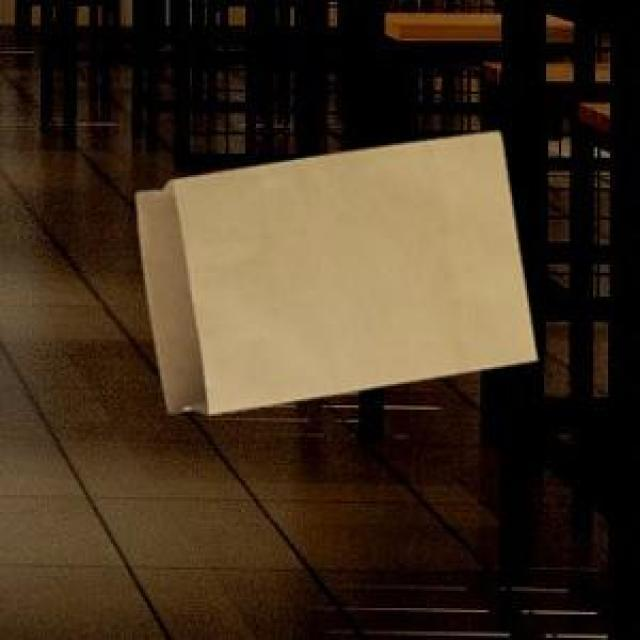paper: (132, 128, 533, 410)
